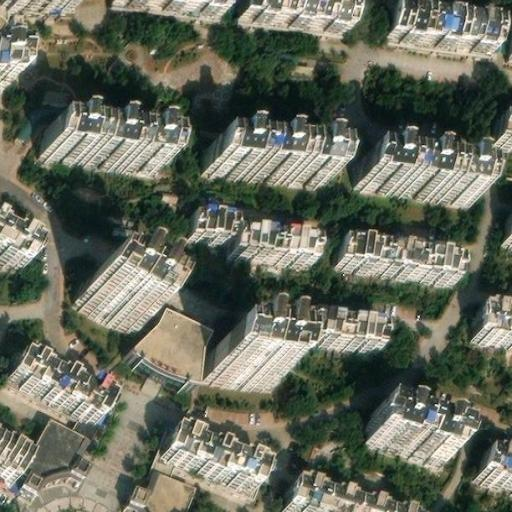building: (10, 349, 110, 418), (154, 423, 257, 487), (133, 298, 214, 377), (188, 212, 316, 256), (203, 135, 328, 177), (42, 120, 160, 164), (352, 151, 467, 196), (336, 235, 458, 277), (389, 2, 498, 48), (19, 413, 88, 485), (366, 403, 455, 457), (149, 452, 246, 497), (70, 271, 143, 328), (278, 480, 403, 512), (235, 0, 346, 31), (129, 464, 198, 512), (202, 341, 273, 384), (313, 322, 382, 349), (469, 303, 512, 339), (475, 446, 512, 485), (0, 218, 30, 263), (0, 435, 27, 475), (494, 115, 512, 144), (497, 216, 512, 243)
